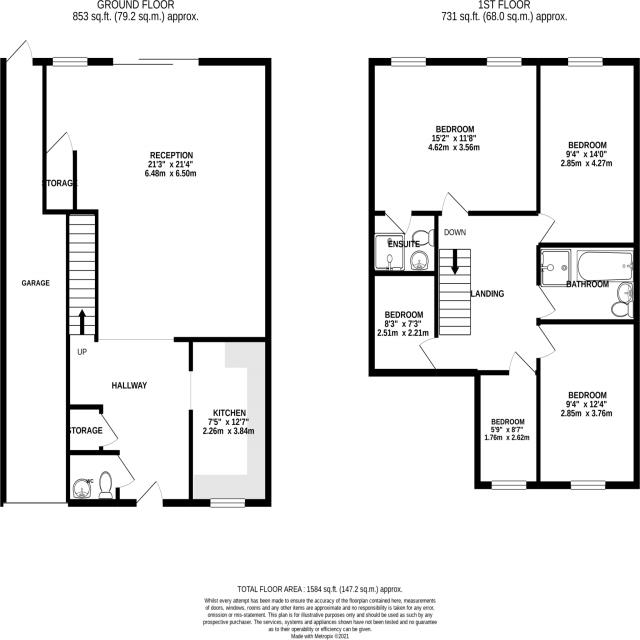DOOR: (383, 210, 413, 236), (536, 323, 557, 359), (508, 349, 537, 375), (441, 190, 469, 216), (537, 283, 557, 319), (417, 336, 438, 370), (538, 213, 557, 244)
ROOM: (42, 57, 271, 509), (368, 58, 541, 235), (536, 57, 640, 248), (536, 318, 640, 490), (474, 349, 540, 489), (369, 270, 438, 377)
SLIDING DOOR: (111, 56, 202, 67)
WINDOW: (566, 56, 604, 68), (569, 479, 606, 491), (52, 56, 89, 67), (209, 497, 246, 508), (485, 56, 522, 67), (490, 480, 527, 491), (390, 56, 426, 67)
